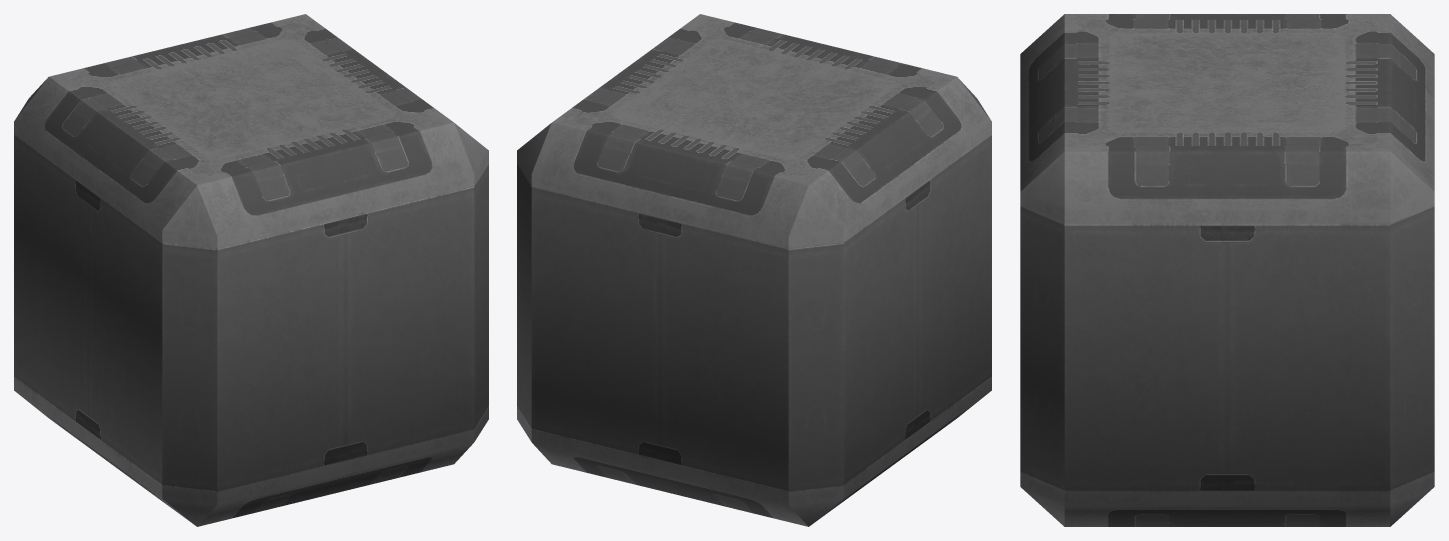
Rendered from pushbox.glb.
The picture shows the model from 3 angles, left to right: view 1: azimuth 30°, elevation 25°; view 2: azimuth 150°, elevation 25°; view 3: azimuth 270°, elevation 25°; orthographic projection. The views are drawn at different scales.
Visible parts, largest first — view 1: pushbox; view 2: pushbox; view 3: pushbox.
Boxes of the visible parts, box(x1,y1,x2,y2) form: pushbox: box(14, 14, 488, 526); pushbox: box(517, 14, 991, 526); pushbox: box(1020, 14, 1434, 526).
Bounding box in the file's own units: 1 × 1 × 1.
1 material, 1 textured.
